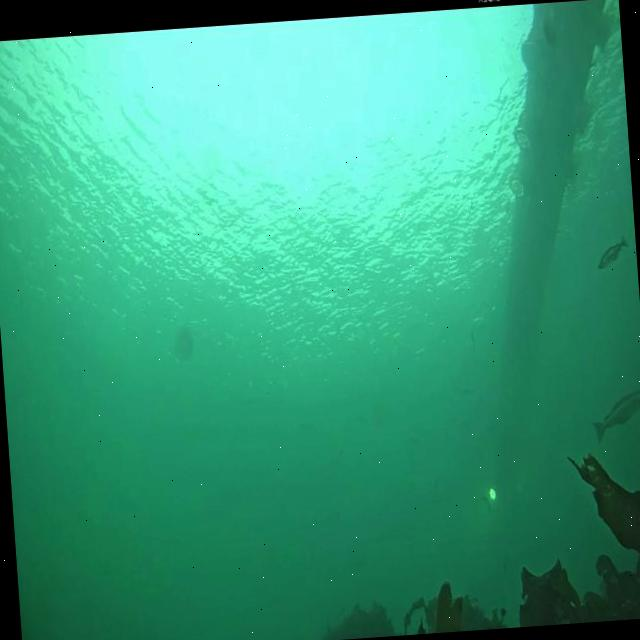fish: (590, 387, 640, 437), (596, 233, 629, 270)
